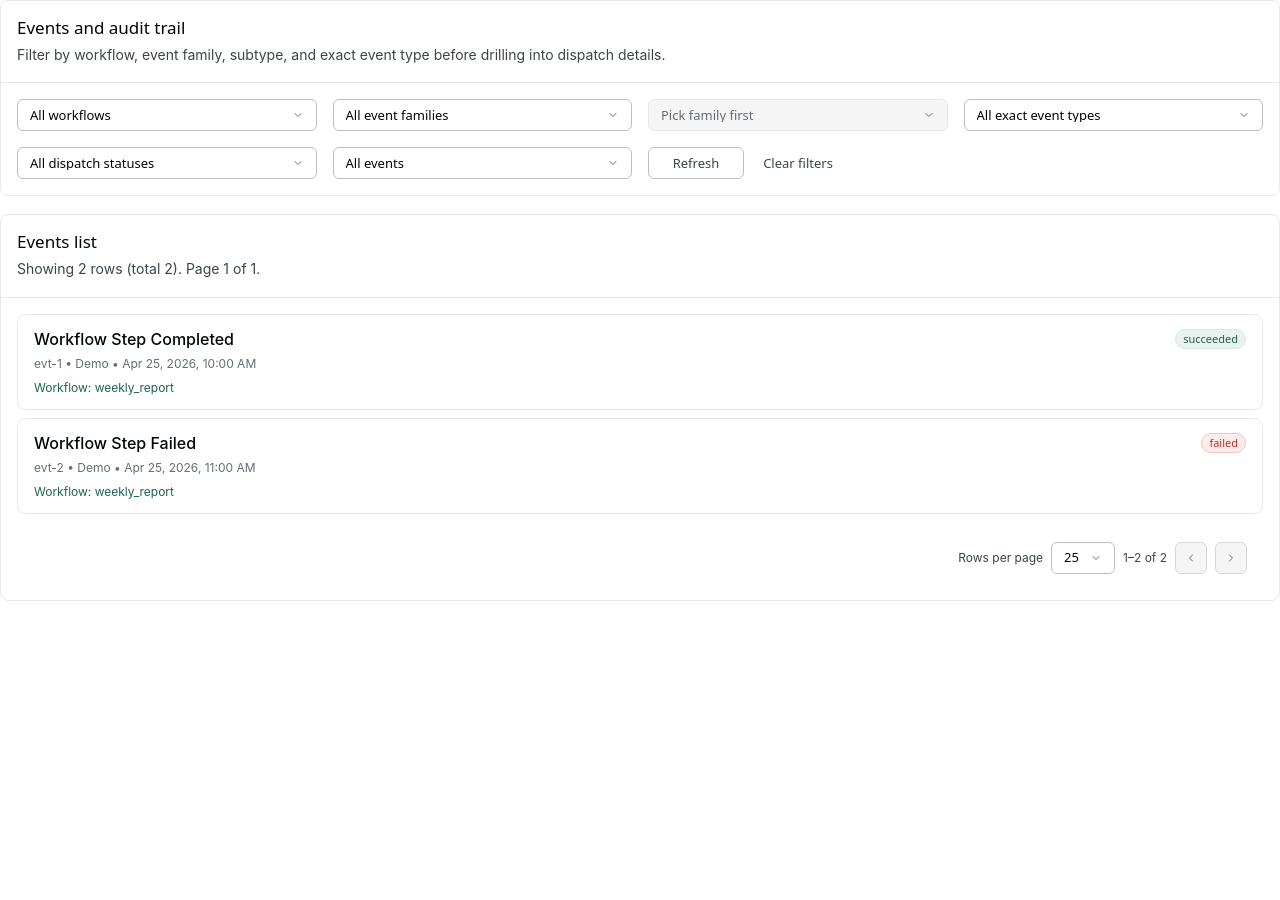
it: EventsAuditTrail › opens event details in a drawer and closes it without leaving the list layout
Click the button "Workflow Step Completed" at (134, 339), box [34, 327, 1246, 373]
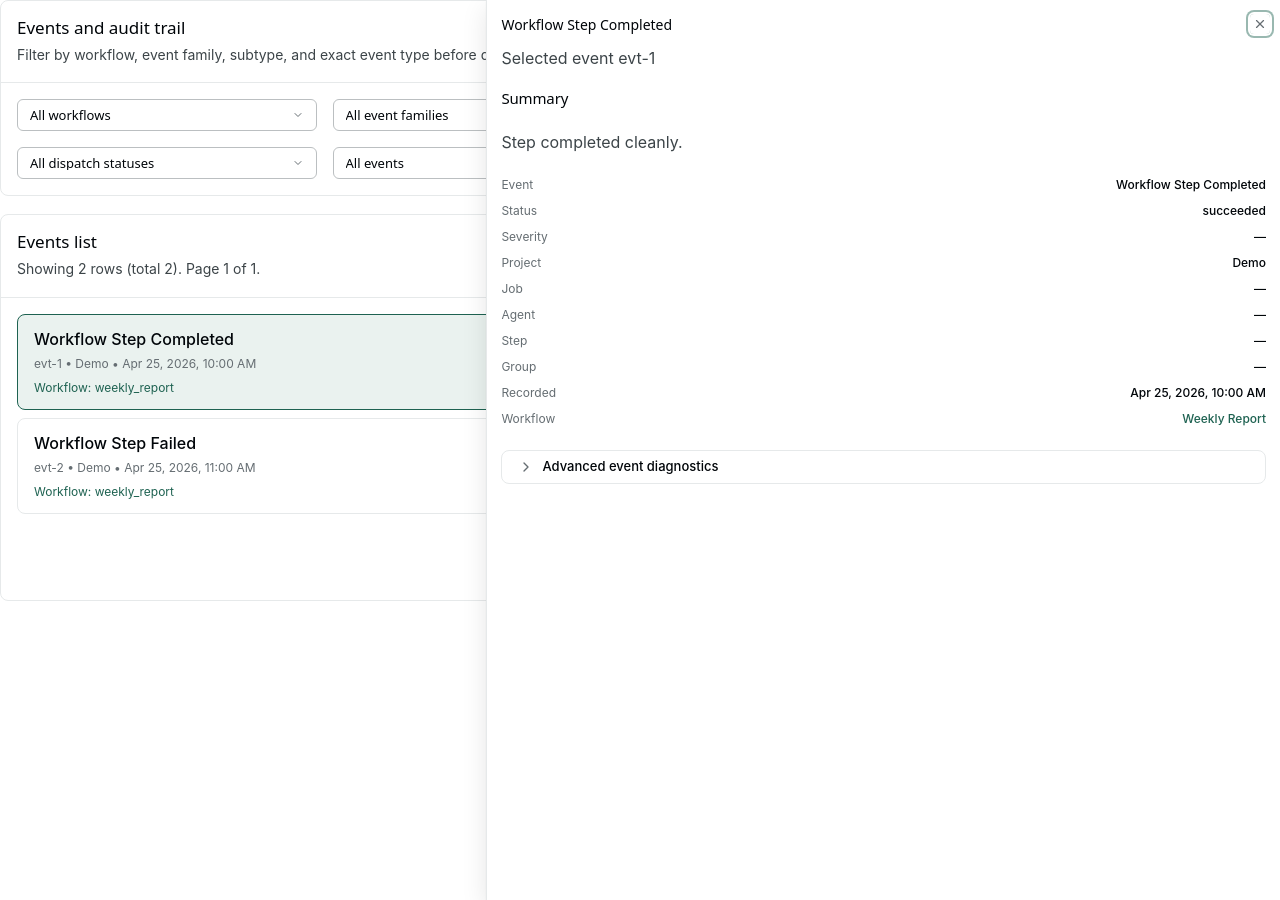
Expected: the heading "Workflow Step Completed" is shown, [501, 14, 672, 34]
Click the button named "Close event detail" at (1260, 24), box [1250, 14, 1270, 34]
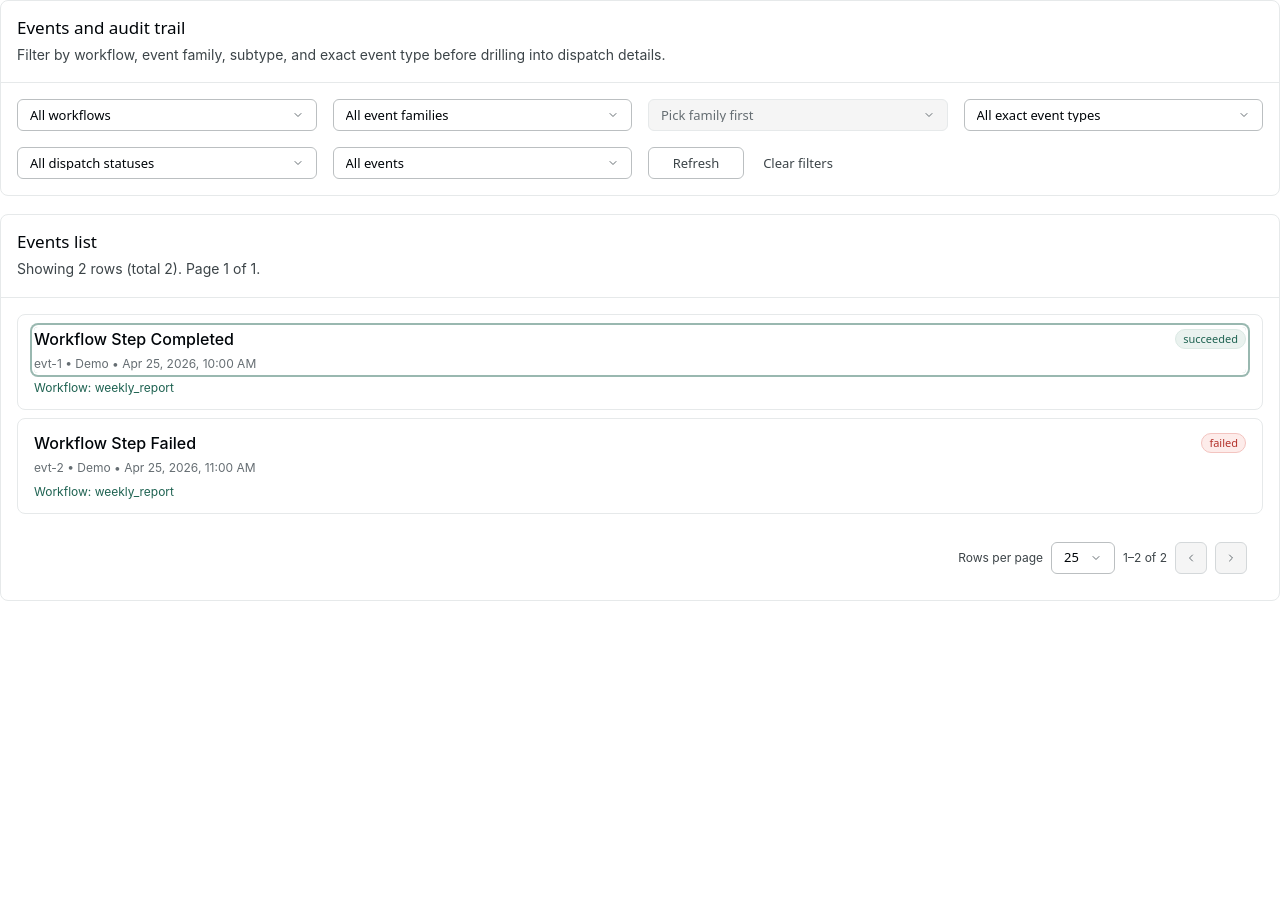
Expected: the heading "Events list" is shown, [17, 230, 97, 253]
Expected: the dialog with test id "event-detail-inspector" is gone
